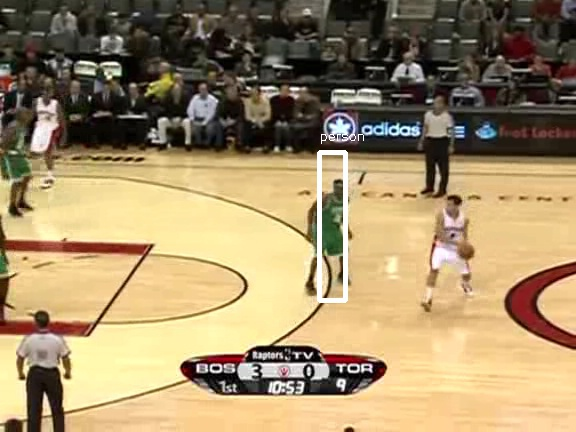person: (317, 187, 351, 268), (316, 187, 350, 268), (318, 187, 352, 268), (317, 186, 351, 267), (317, 188, 351, 269)
target_negative: (333, 107, 537, 427), (188, 299, 559, 335), (246, 359, 429, 412), (218, 11, 230, 344), (542, 201, 568, 264), (16, 394, 100, 411)
